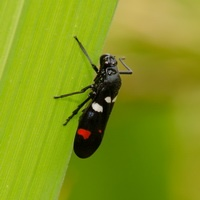insect: (54, 36, 131, 157)
